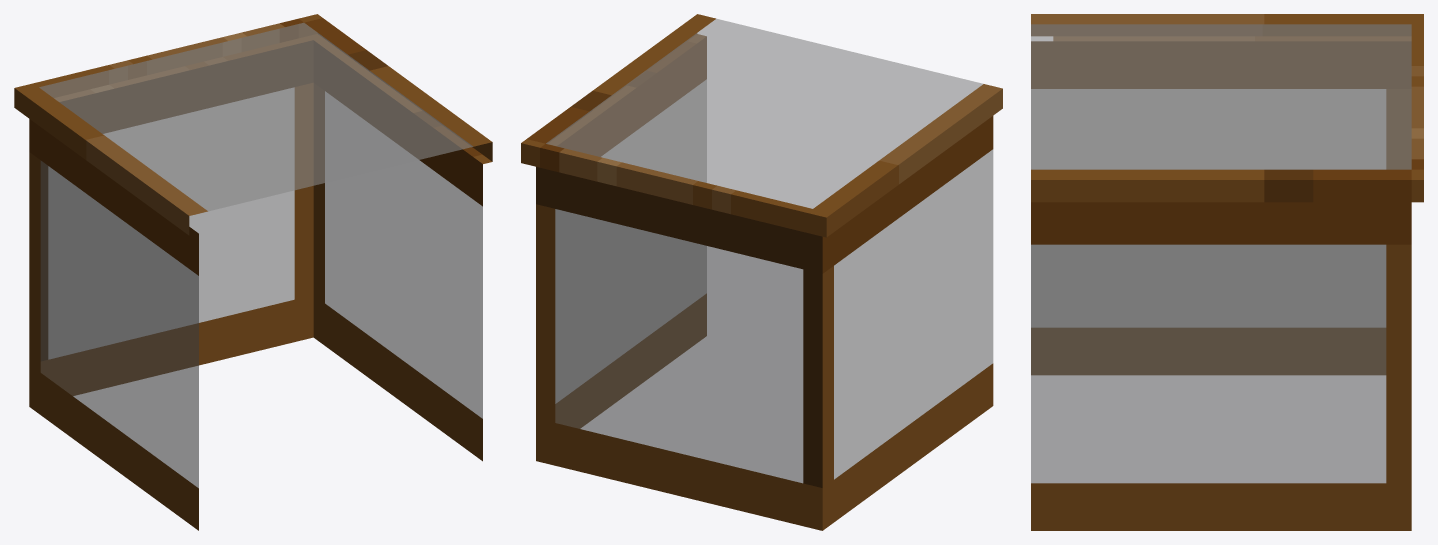
The model's file is counter_518x04.gltf.
3 views of the same model, side by side, from view 1: azimuth 30°, elevation 25°; view 2: azimuth 150°, elevation 25°; view 3: azimuth 270°, elevation 25° (orthographic). The views are drawn at different scales.
Parts seen in each view (by area): view 1: Counter_518x04; view 2: Counter_518x04; view 3: Counter_518x04.
Boxes of the visible parts, <box> form: Counter_518x04: <box>14,14,492,530</box>; Counter_518x04: <box>521,14,1002,530</box>; Counter_518x04: <box>1031,14,1423,530</box>.
Size of the model in its own units: 2.07 by 2.07 by 2.07.
1 material, 1 textured.
